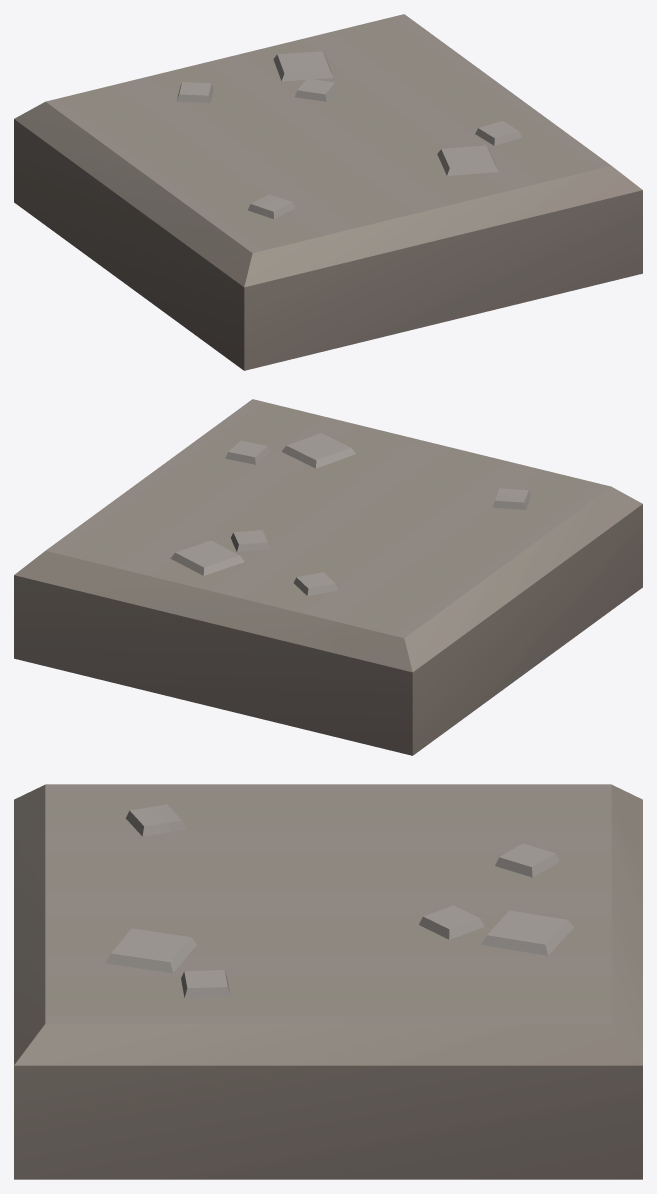
Rendered from floor-dirt-small.glb.
3 views of the same model, one above another, from view 1: azimuth 30°, elevation 25°; view 2: azimuth 150°, elevation 25°; view 3: azimuth 270°, elevation 25° (orthographic). The views are drawn at different scales.
Visible parts, largest first — view 1: floor_dirt_small; view 2: floor_dirt_small; view 3: floor_dirt_small.
Part boxes in pixels (bbox=[...]): floor_dirt_small: bbox=[14, 14, 642, 370]; floor_dirt_small: bbox=[14, 399, 642, 755]; floor_dirt_small: bbox=[14, 784, 642, 1179].
Size of the model in its own units: 2 by 0.5301 by 2.
Materials: 1 (1 with a texture image).
